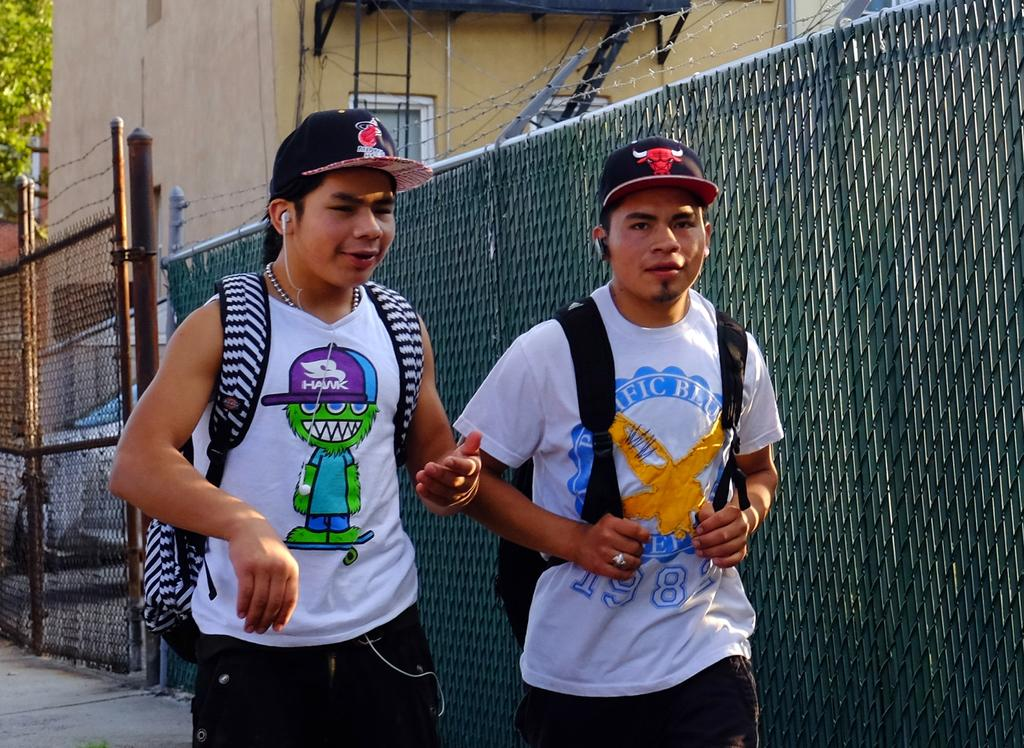Hat: (272, 108, 432, 198), (596, 136, 714, 214)
